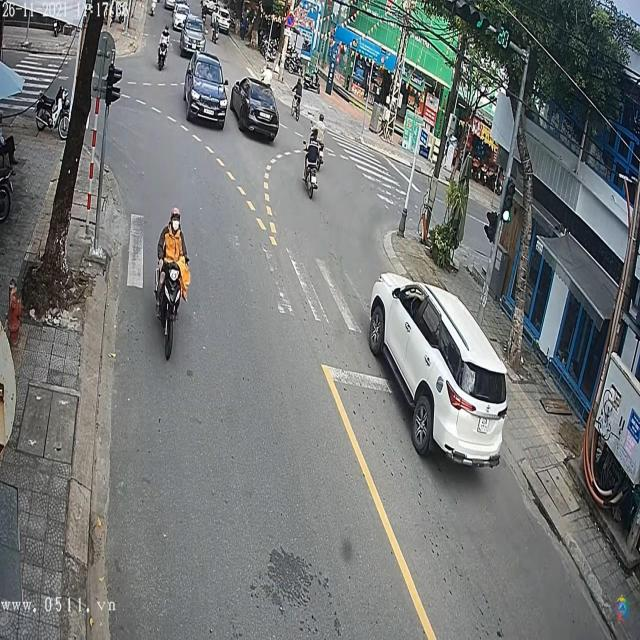car: (367, 276, 512, 468), (182, 49, 231, 128), (230, 79, 280, 143), (179, 16, 206, 53)
motorcycle: (154, 249, 190, 367), (302, 140, 324, 196), (157, 33, 169, 70)
